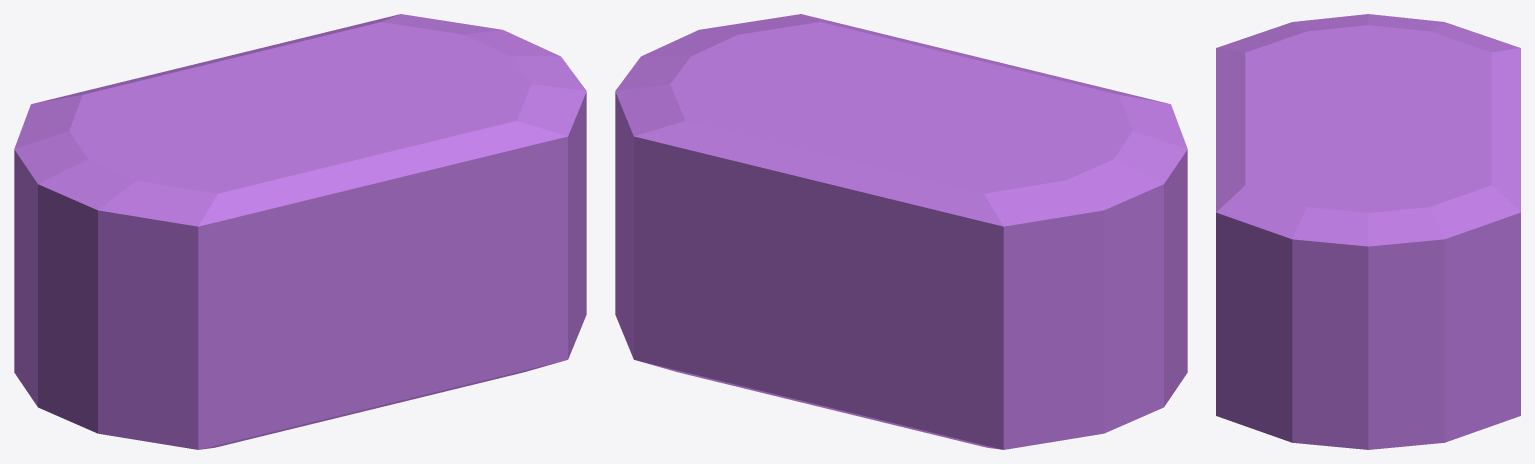
File: ing2 proto.fbx
3 views of the same model, side by side, from view 1: azimuth 30°, elevation 25°; view 2: azimuth 150°, elevation 25°; view 3: azimuth 270°, elevation 25° (orthographic). The views are drawn at different scales.
Visible parts, largest first — view 1: ingredient 2; view 2: ingredient 2; view 3: ingredient 2.
Part boxes in pixels (x1=…): ingredient 2: x1=14, y1=14, x2=586, y2=449; ingredient 2: x1=615, y1=14, x2=1187, y2=449; ingredient 2: x1=1216, y1=14, x2=1520, y2=449.
Size of the model in its own units: 0.7902 by 0.4377 by 0.3625.
